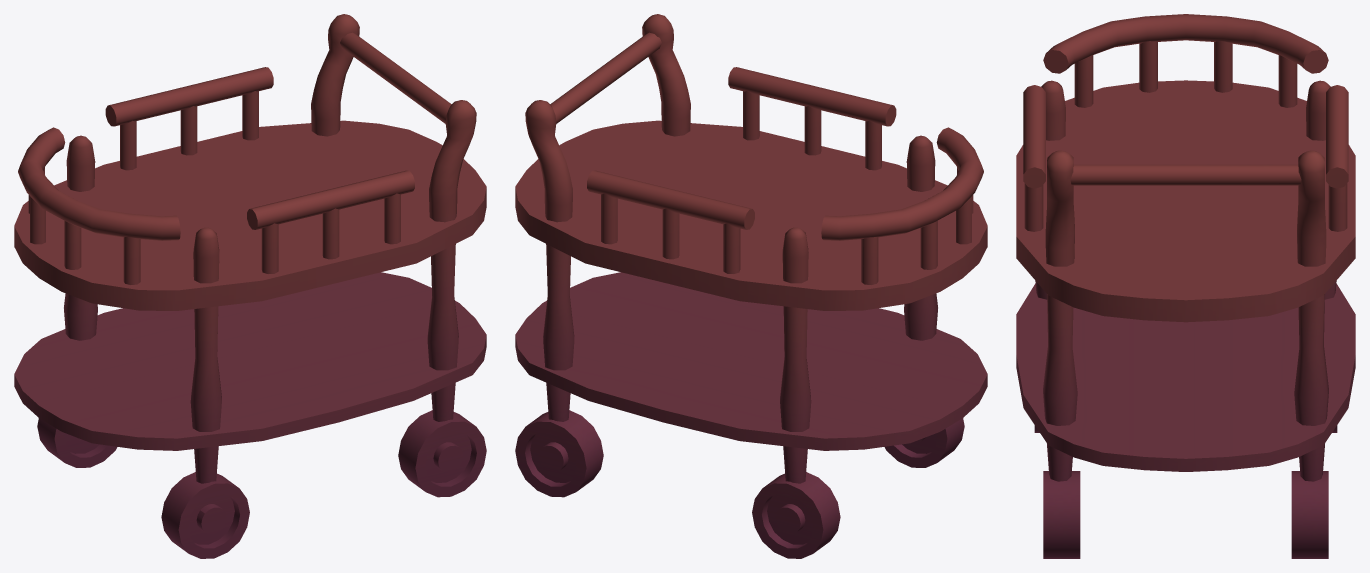
File: ServingTable.fbx
3 renders of one model, left to right at view 1: azimuth 30°, elevation 25°; view 2: azimuth 150°, elevation 25°; view 3: azimuth 270°, elevation 25°, orthographic. The views are drawn at different scales.
Parts seen in each view (by area): view 1: cart; view 2: cart; view 3: cart.
Part boxes in pixels (x1,y1,x2,y2): cart: (14, 14, 486, 558); cart: (515, 14, 987, 558); cart: (1016, 14, 1355, 558).
Size of the model in its own units: 0.9535 by 0.8339 by 0.622.
